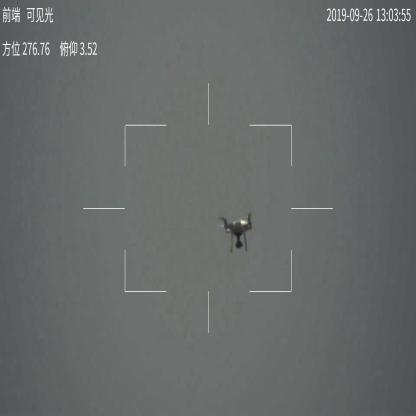uav: (215, 210, 258, 253)
